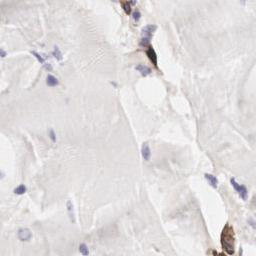nucleus: (139, 26, 158, 43), (232, 179, 246, 199), (17, 227, 33, 241), (66, 198, 75, 222), (205, 175, 219, 188), (29, 50, 43, 62), (50, 46, 62, 60), (13, 183, 26, 195), (142, 143, 151, 160), (137, 66, 151, 76), (48, 126, 56, 143), (46, 74, 58, 85), (78, 244, 89, 256), (247, 217, 256, 225), (133, 11, 140, 21), (1, 49, 7, 57), (223, 243, 232, 248), (1, 170, 5, 179), (112, 80, 116, 87), (126, 4, 129, 9)
positive_cell: (218, 222, 240, 256), (139, 27, 158, 64), (121, 1, 133, 17)
